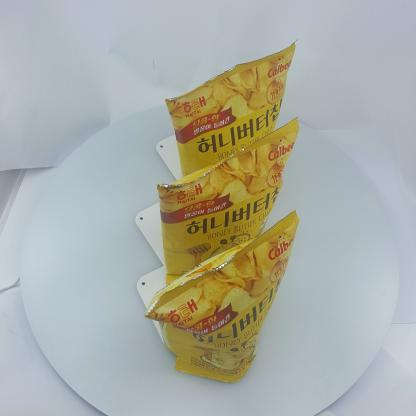Plastic Packaging: (144, 212, 304, 388), (154, 36, 302, 138), (158, 112, 300, 216)
